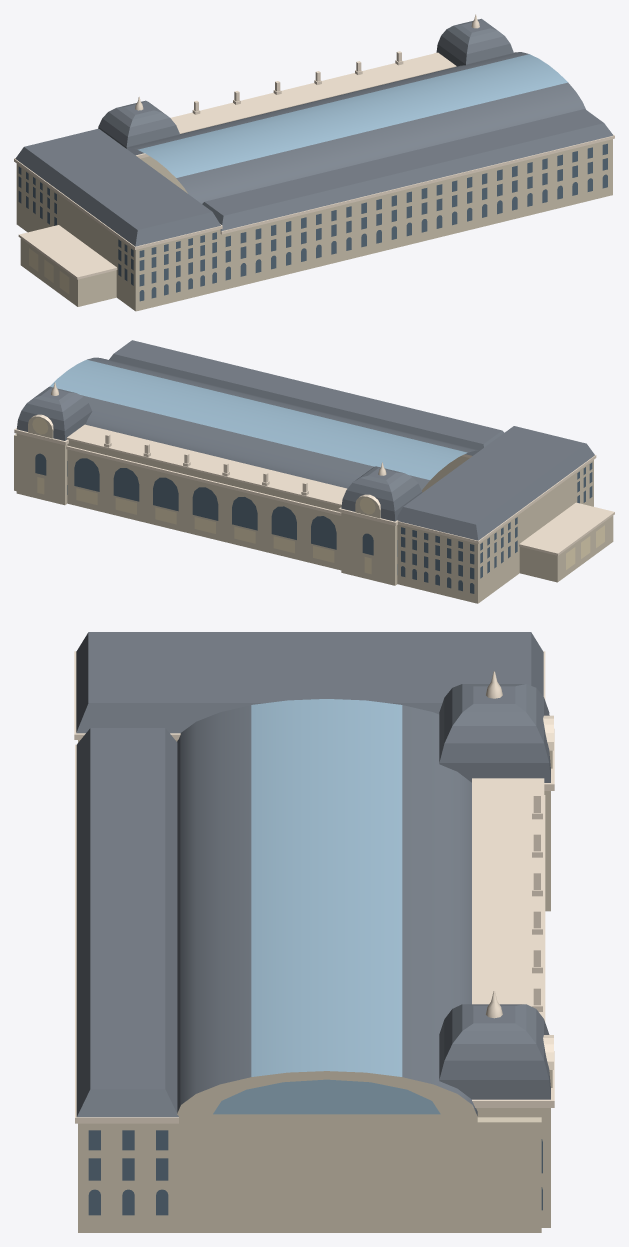
File: paris-musee-d-orsay.glb
3 renders of one model, top to bottom at view 1: azimuth 30°, elevation 25°; view 2: azimuth 150°, elevation 25°; view 3: azimuth 270°, elevation 25°, orthographic. The views are drawn at different scales.
Visible parts, largest first — view 1: Musée d'Orsay; view 2: Musée d'Orsay; view 3: Musée d'Orsay.
Part boxes in pixels (<box>): Musée d'Orsay: <box>14,14,614,311</box>; Musée d'Orsay: <box>14,340,614,603</box>; Musée d'Orsay: <box>74,632,554,1232</box>.
Size of the model in its own units: 189 by 38.2 by 78.
